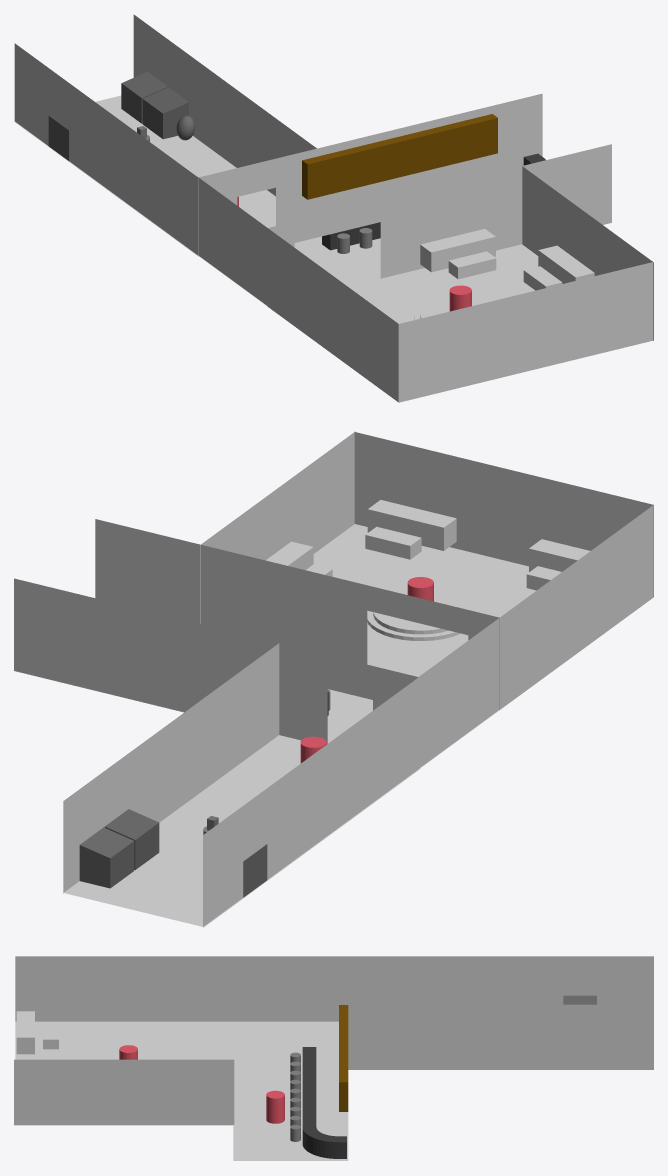
File: blockout.fbx
3 renders of one model, top to bottom at view 1: azimuth 30°, elevation 25°; view 2: azimuth 150°, elevation 25°; view 3: azimuth 270°, elevation 25°, orthographic. The views are drawn at different scales.
Visible parts, largest first — view 1: pared.005, pared.004, pared.001, pared.003, pared, pared.002, estanteria, pared.006, suelo.002, suelo.001, suelo, Cube.005 (+7 smaller); view 2: pared, pared.001, pared.004, pared.005, pared.003, pared.002, suelo.001, suelo.002, pared.006, Cube.007, Cube.002, Cube (+7 smaller); view 3: pared.004, pared.002, pared.006, pared.003, suelo, suelo.002, barra, estanteria, sillas, Cube.006, Player.001, Cube.011 (+1 smaller).
Part boxes in pixels (x1,y1,x2,y2): pared.005: (398,262,653,402); pared.004: (198,177,398,402); pared.001: (268,144,611,278); pared.003: (14,43,198,255); pared: (198,93,542,255); pared.002: (133,14,316,196); estanteria: (302,114,497,199); pared.006: (522,166,653,340); suelo.002: (348,244,538,323); suelo.001: (14,95,275,256); suelo: (199,236,380,306); Cube.005: (420,229,495,272); pared: (14,578,418,744); pared.001: (95,519,499,709); pared.004: (417,505,653,768); pared.005: (354,432,653,596); pared.003: (203,677,418,927); pared.002: (63,643,279,893); suelo.001: (64,735,420,926); suelo.002: (313,524,536,676); pared.006: (200,431,355,623); Cube.007: (367,500,456,550); Cube.002: (79,827,134,888); Cube: (104,809,159,869); pared.004: (15,956,350,1021); pared.002: (348,1004,653,1069); pared.006: (14,1059,234,1125); pared.003: (350,956,653,1004); suelo: (233,1021,348,1160); suelo.002: (15,1021,233,1059); barra: (302,1047,346,1158); estanteria: (339,1005,348,1111); sillas: (290,1052,300,1141); Cube.006: (16,1011,34,1054); Player.001: (266,1090,284,1123); Cube.011: (43,1024,58,1049).
Bounding box in the file's own units: 1787 × 396 × 3447.
